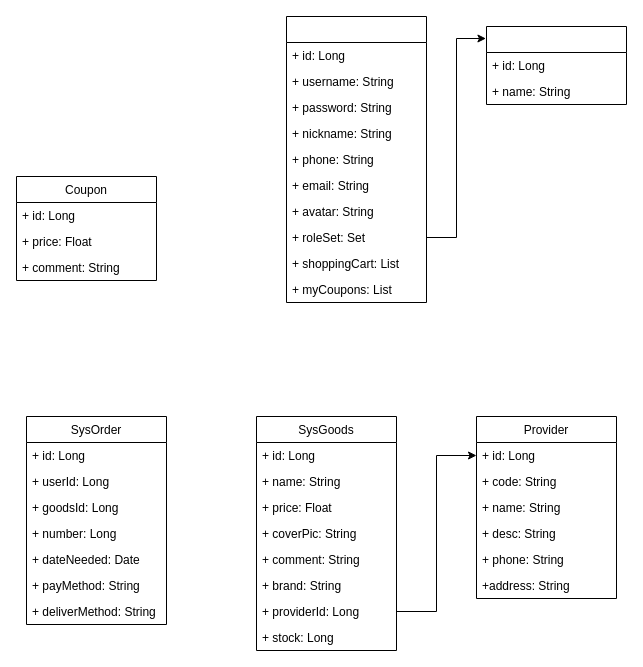
Some shapes in this 643 by 667 pixel diagram are drawn without their labels. Each missing label, with the box of its shape:
SysRole: (486, 26, 626, 104)
SysUser: (286, 16, 426, 302)
